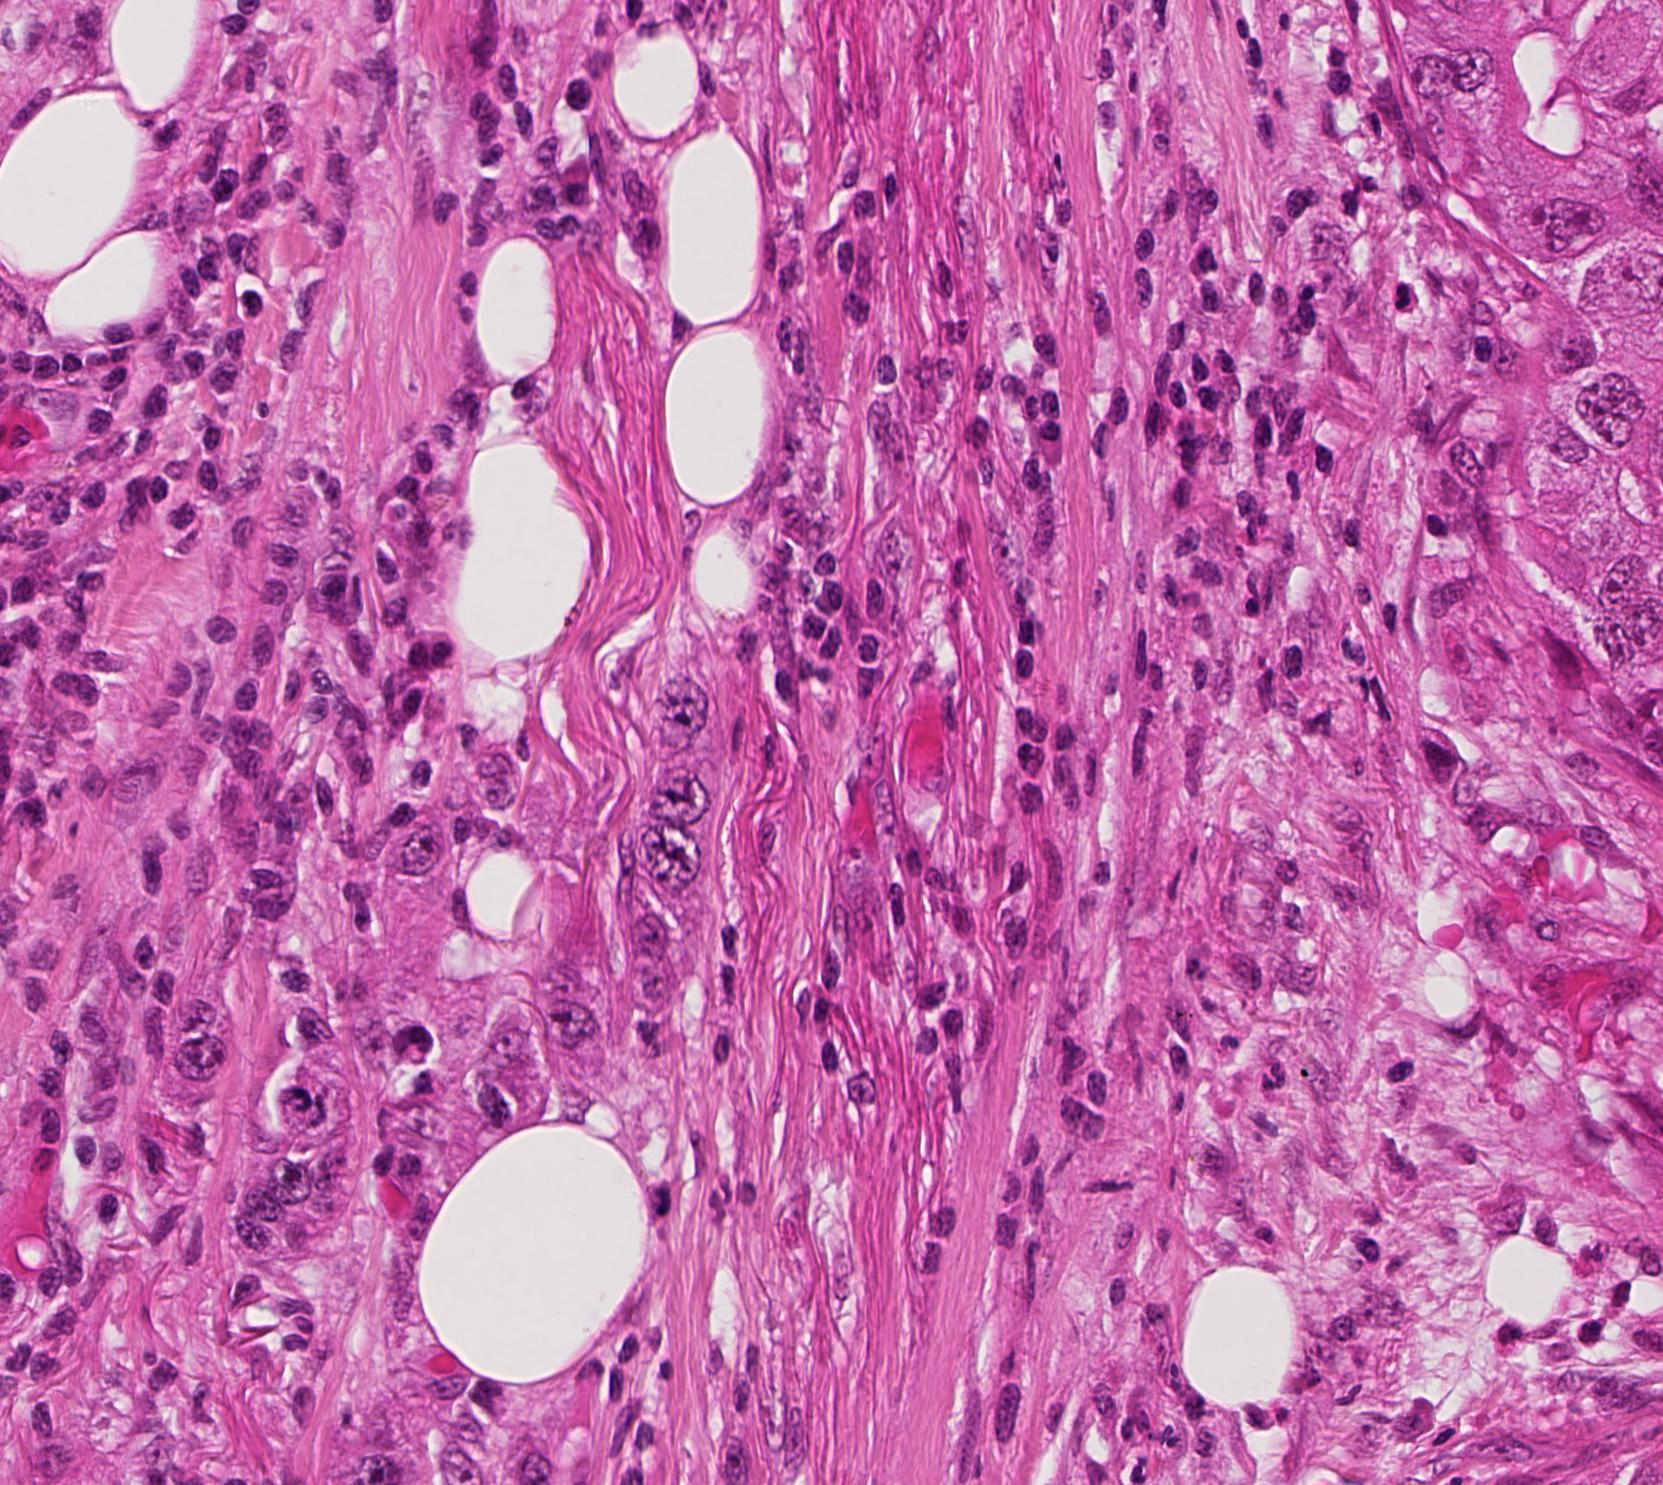mitosis: (277, 1079, 335, 1140)
